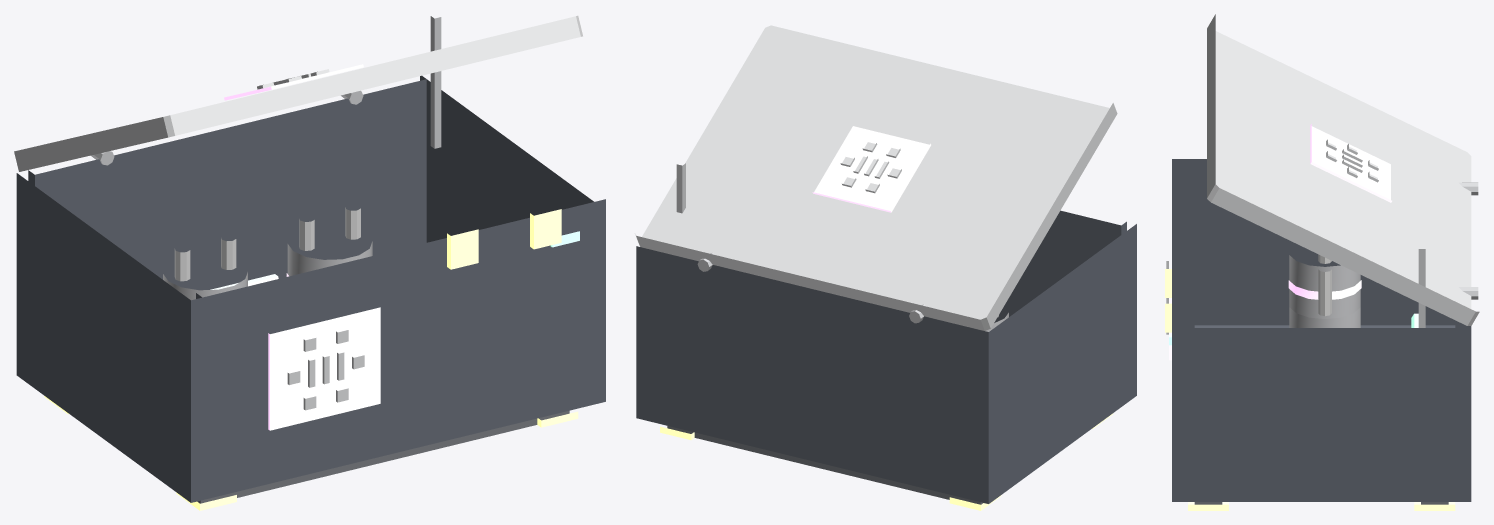
Rendered from iter_05_204.glb.
3 views of the same model, side by side, from view 1: azimuth 30°, elevation 25°; view 2: azimuth 150°, elevation 25°; view 3: azimuth 270°, elevation 25° (orthographic). The views are drawn at different scales.
Visible parts, largest first — view 1: Body_204, Lid_204, Glyph_Plate_204, Skids_204, Latches_204, Emitter_ceramic_204, Glyph_Marks_204, Emitter_alloy_204, Lid_Prop_204, Floor_Clamps_204; view 2: Body_204, Lid_204, Lid_Glyph_204, Skids_204, Lid_Glyph_Marks_204; view 3: Body_204, Lid_204, Emitter_alloy_204, Lid_Glyph_204, Emitter_ceramic_204, Floor_Clamps_204, Lid_Glyph_Marks_204, Emitter_violet_204, Emitter_slate_204, Lid_Prop_204, Latches_204.
Boxes of the visible parts, bbox=[...] form: Body_204: bbox=[16, 75, 605, 502]; Lid_204: bbox=[14, 15, 582, 171]; Glyph_Plate_204: bbox=[268, 307, 380, 430]; Skids_204: bbox=[197, 410, 569, 503]; Latches_204: bbox=[447, 209, 561, 269]; Emitter_ceramic_204: bbox=[174, 207, 360, 281]; Glyph_Marks_204: bbox=[287, 330, 364, 410]; Emitter_alloy_204: bbox=[163, 241, 372, 300]; Lid_Prop_204: bbox=[430, 16, 441, 148]; Floor_Clamps_204: bbox=[44, 396, 578, 510]; Body_204: bbox=[636, 210, 1136, 503]; Lid_204: bbox=[635, 25, 1117, 330]; Lid_Glyph_204: bbox=[812, 126, 930, 212]; Skids_204: bbox=[667, 426, 982, 504]; Lid_Glyph_Marks_204: bbox=[840, 142, 901, 193]; Body_204: bbox=[1172, 159, 1471, 501]; Lid_204: bbox=[1207, 14, 1479, 325]; Emitter_alloy_204: bbox=[1289, 255, 1360, 327]; Lid_Glyph_204: bbox=[1310, 124, 1391, 202]; Emitter_ceramic_204: bbox=[1318, 254, 1331, 316]; Floor_Clamps_204: bbox=[1188, 502, 1455, 510]; Lid_Glyph_Marks_204: bbox=[1326, 139, 1378, 182]; Emitter_violet_204: bbox=[1288, 280, 1361, 299]; Emitter_slate_204: bbox=[1194, 325, 1455, 327]; Lid_Prop_204: bbox=[1418, 249, 1425, 327]; Latches_204: bbox=[1165, 269, 1171, 332].
Bounding box in the file's own units: 0.9 × 0.8028 × 0.6888.
